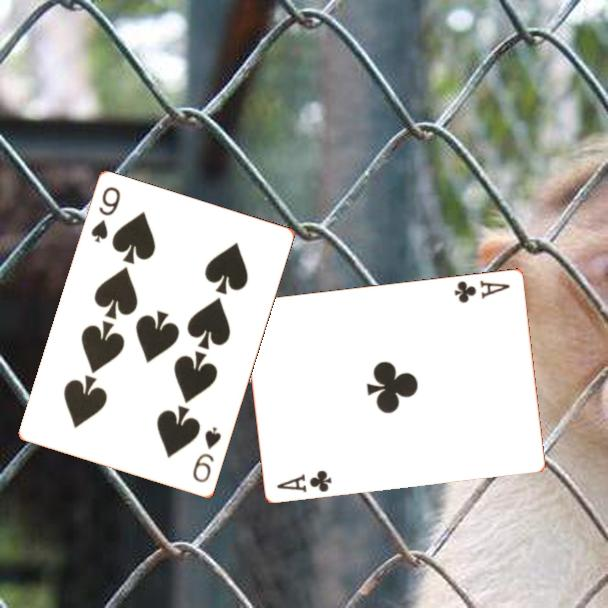c01: (451, 276, 513, 305), (273, 466, 335, 495)
s09: (88, 184, 124, 246), (189, 424, 224, 486)
